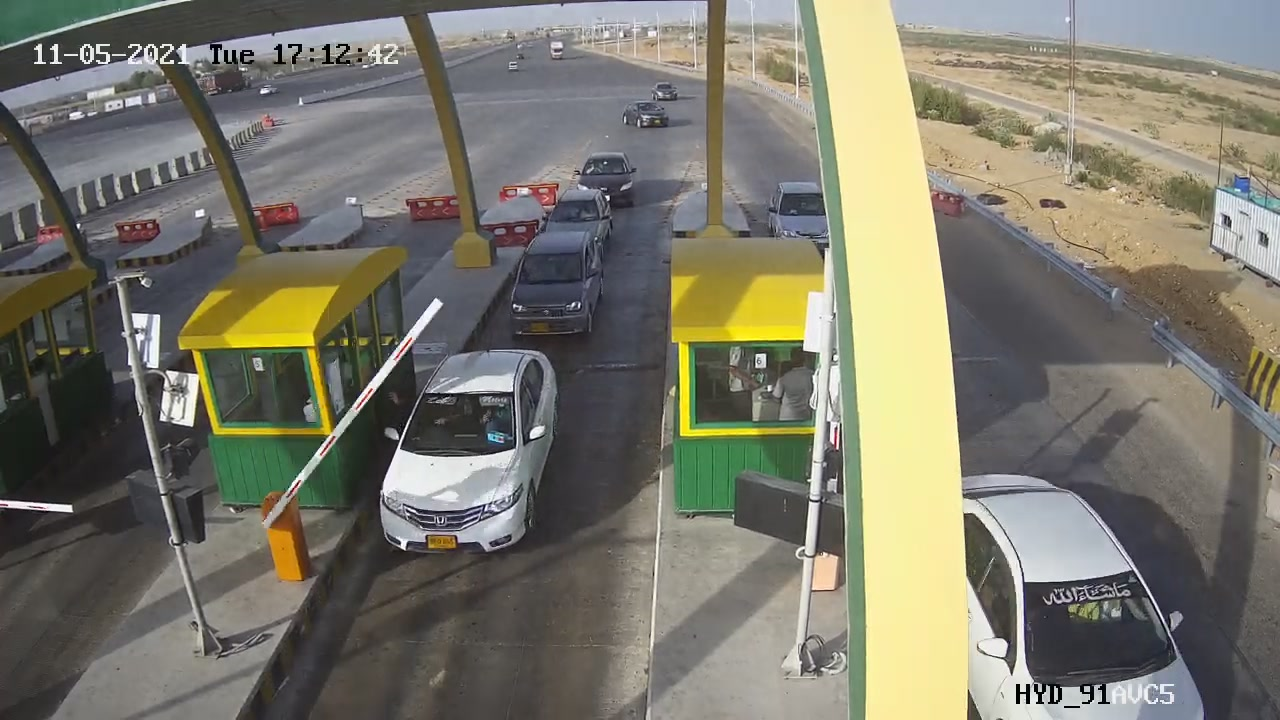F1: (360, 336, 576, 573), (491, 218, 622, 357)
